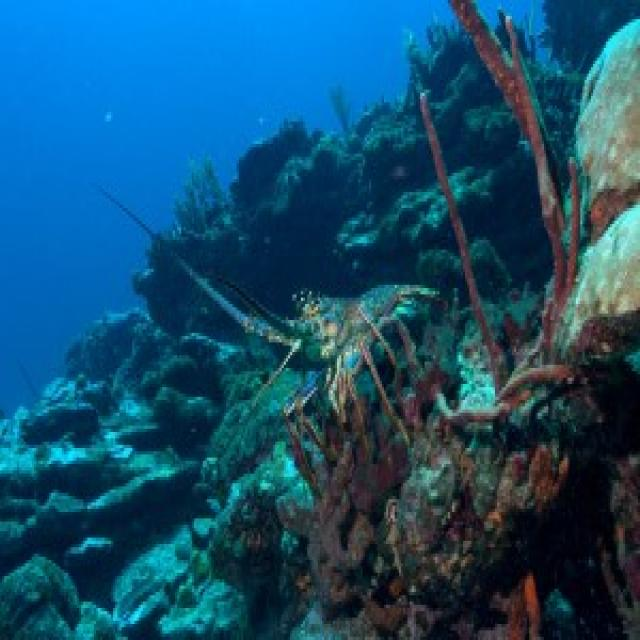lobsters: (182, 159, 496, 388)
